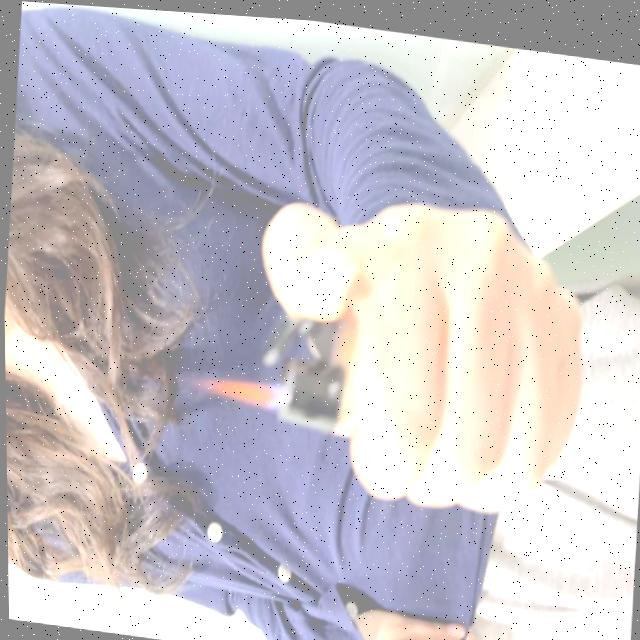Fire: (187, 367, 289, 409)
